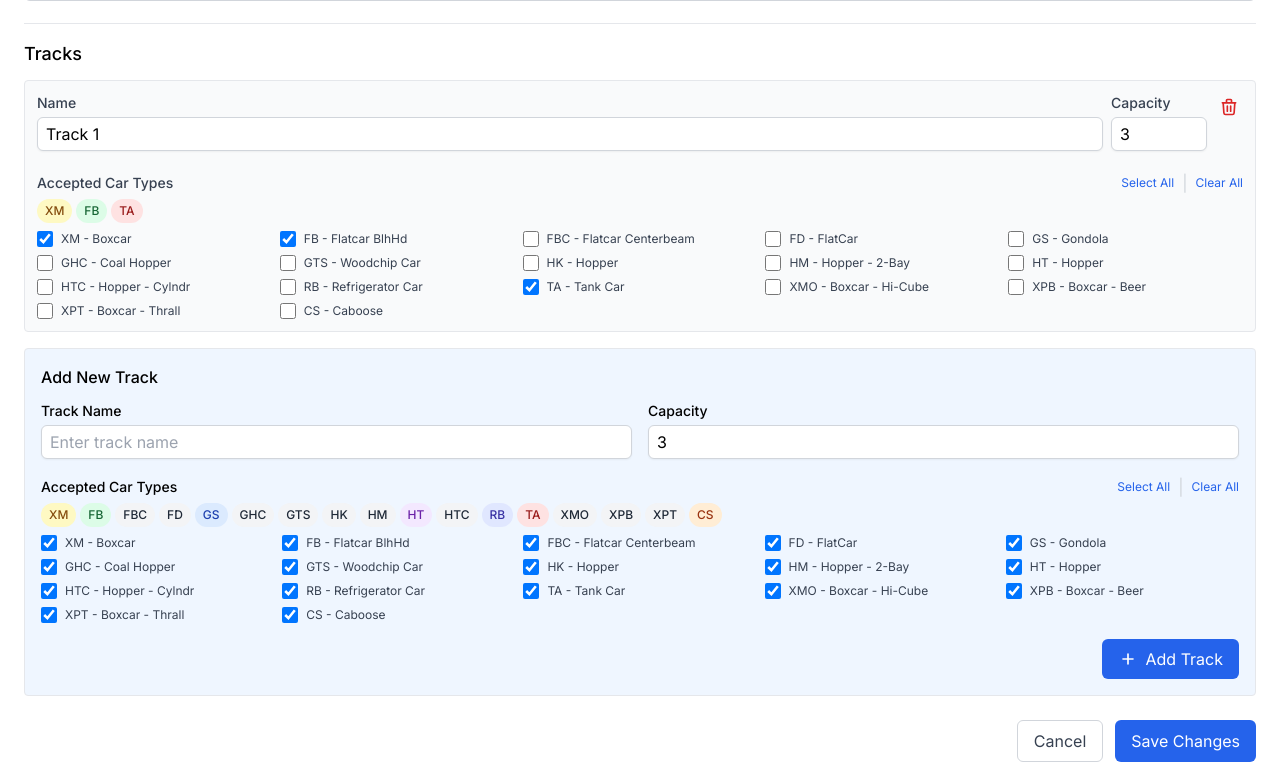
EditIndustryForm › handles errors during form submission
(page scrolled)
Submit the form
Click the button "Save Changes" at (1186, 741), box [1115,720,1256,762]
(page scrolled)
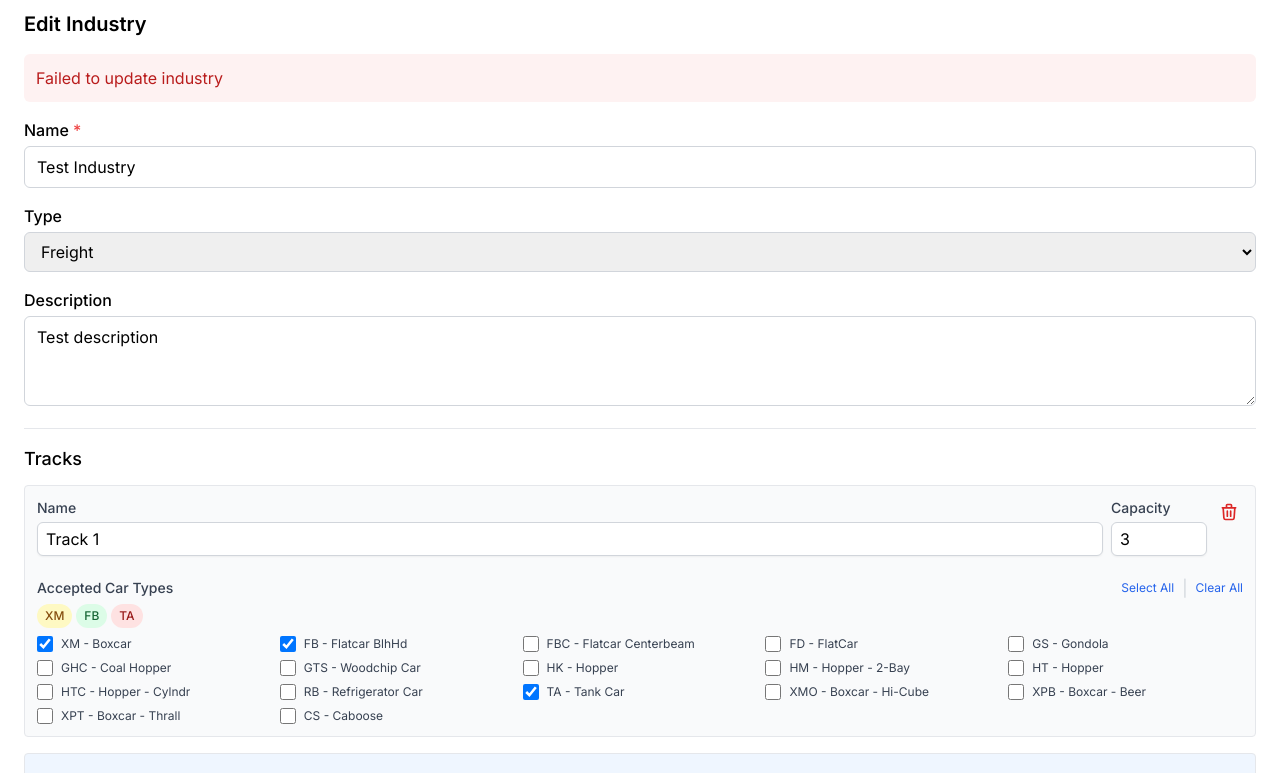
Expected: the text with test id "error-message" reads "Failed to update industry", [36,68,223,88]
